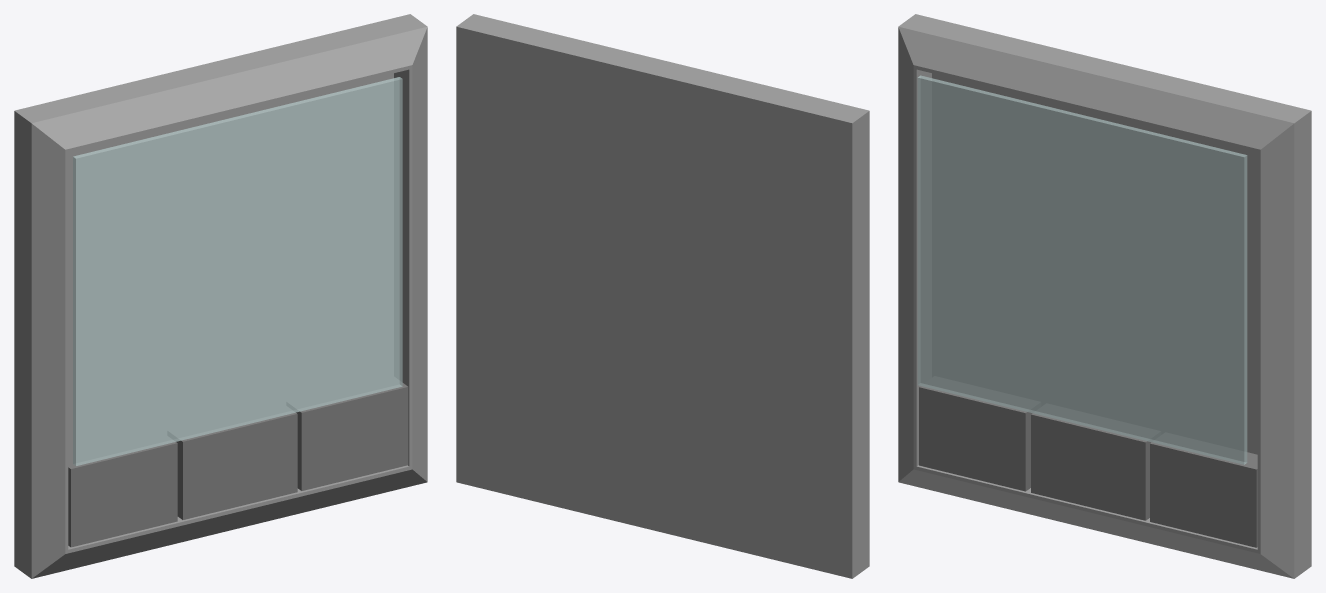
File: Prop_Control_Panel_Wall.fbx
3 renders of one model, left to right at view 1: azimuth 30°, elevation 25°; view 2: azimuth 150°, elevation 25°; view 3: azimuth 330°, elevation 25°, orthographic.
Parts seen in each view (by area): view 1: polySurface1; view 2: polySurface1; view 3: polySurface1.
Part boxes in pixels (left/top/right/bottom): polySurface1: left=14, top=14, right=427, bottom=578; polySurface1: left=456, top=14, right=869, bottom=578; polySurface1: left=898, top=14, right=1311, bottom=578.
Size of the model in its own units: 14.83 by 16.3 by 1.93.
